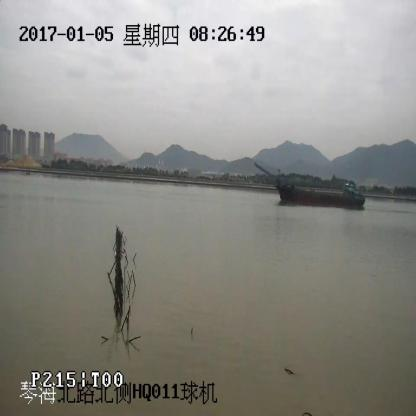Bulk Carrier: (255, 163, 364, 208)
